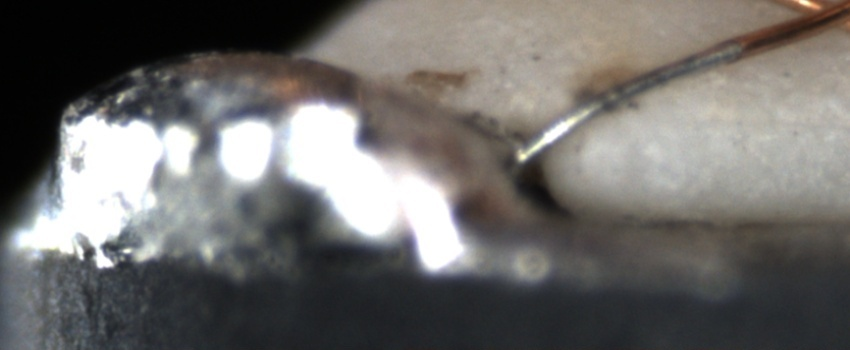DL: (633, 103, 849, 139)
TS: (518, 41, 741, 163)
